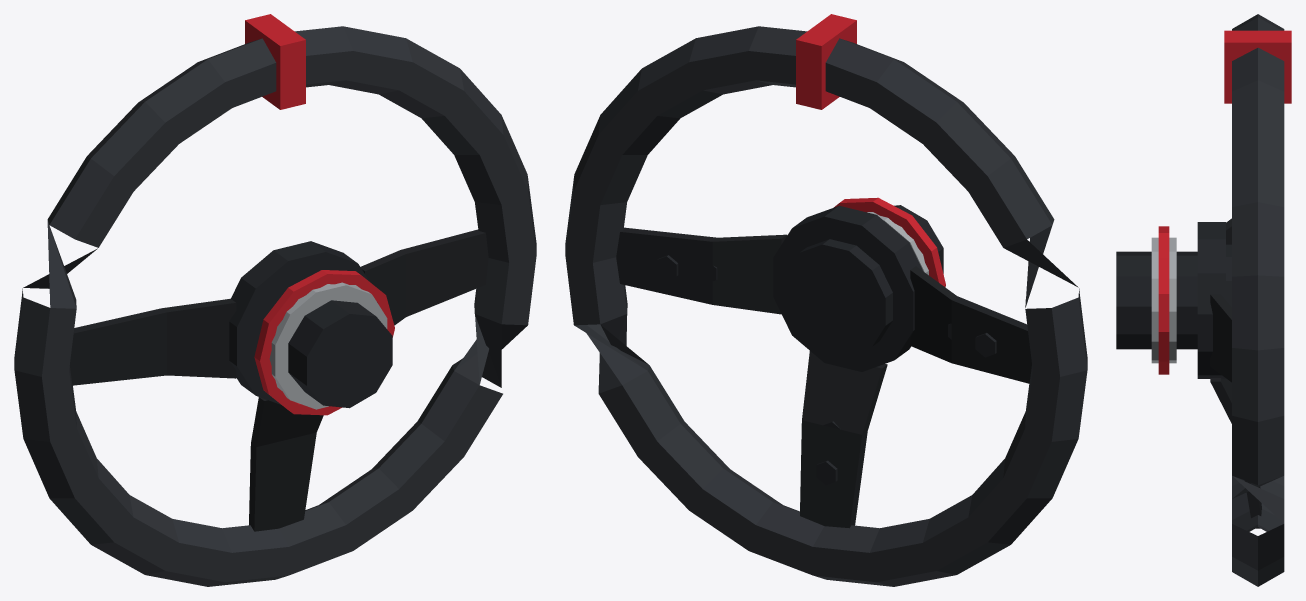
Rendered from hana_roadster.glb.
3 renders of one model, left to right at view 1: azimuth 30°, elevation 25°; view 2: azimuth 150°, elevation 25°; view 3: azimuth 270°, elevation 25°, orthographic. The views are drawn at different scales.
Parts seen in each view (by area): view 1: model; view 2: model; view 3: model.
Boxes of the visible parts, left/top/right/bottom form: model: left=14, top=14, right=536, bottom=586; model: left=565, top=14, right=1087, bottom=586; model: left=1116, top=14, right=1291, bottom=586.
Size of the model in its own units: 0.3244 by 0.3264 by 0.099.
4 materials, 1 textured.
